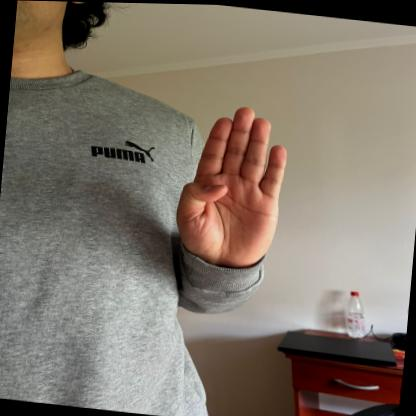B: (171, 94, 294, 273)
